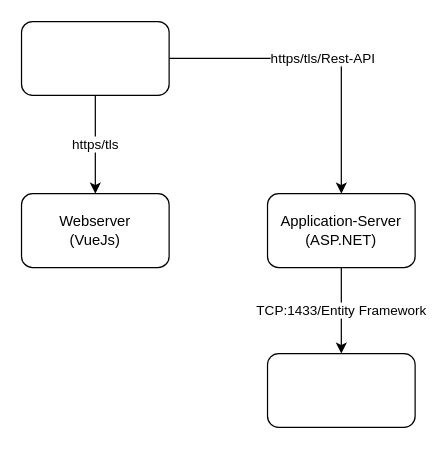
Some shapes in this 448 by 449 pixel diagram are drawn without their labels. Each missing label, with the centre of its shape:
Browser (Chrome, Firefox, Opera): (94,57)
Database (MSSql): (340,389)
